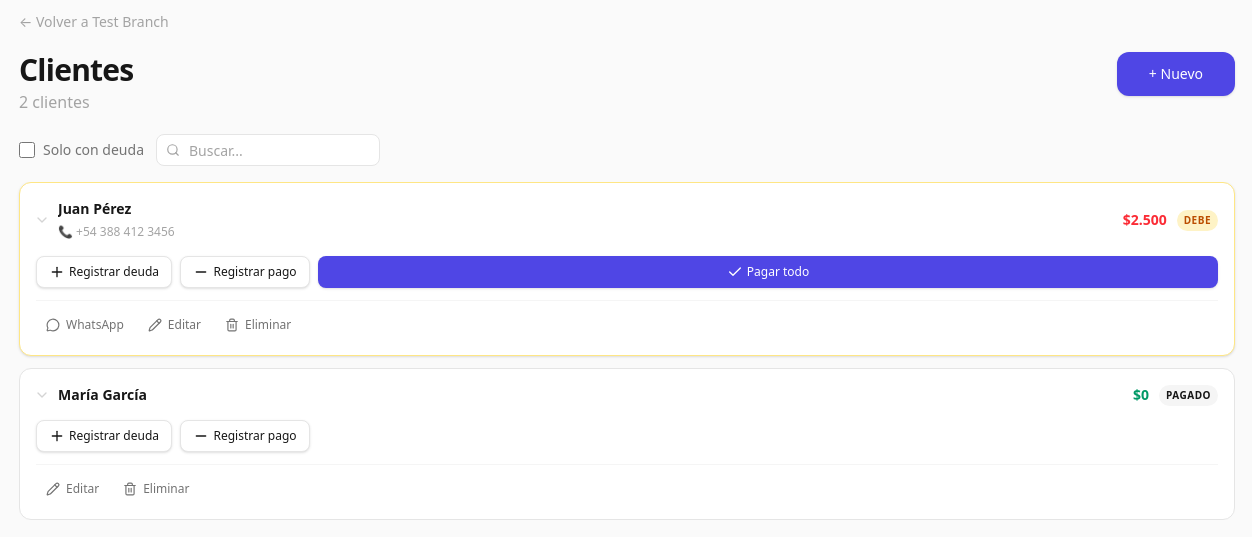
it: ClientList › should filter by solo con deuda toggle
This screenshot has width=1252, height=537.
Expected: the text "Juan Pérez" is shown, [58,199,131,218]
Click the checkbox labelled "Solo con deuda" at point(27, 150), box [19,142,35,158]
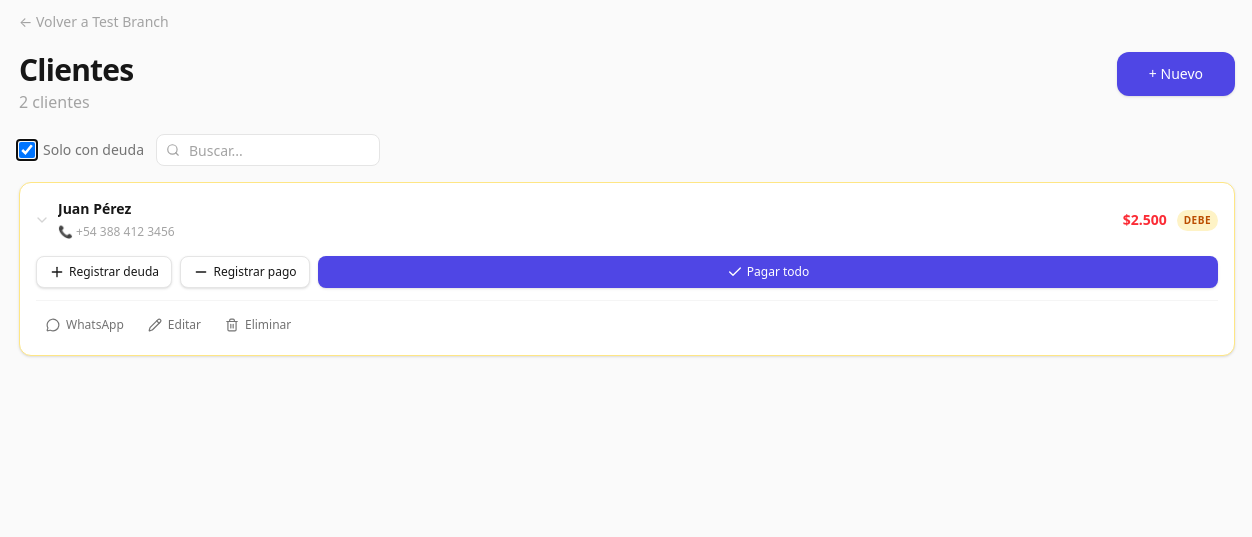
Expected: the text "Juan Pérez" is shown, [58,199,131,218]
Expected: the text "María García" is gone
